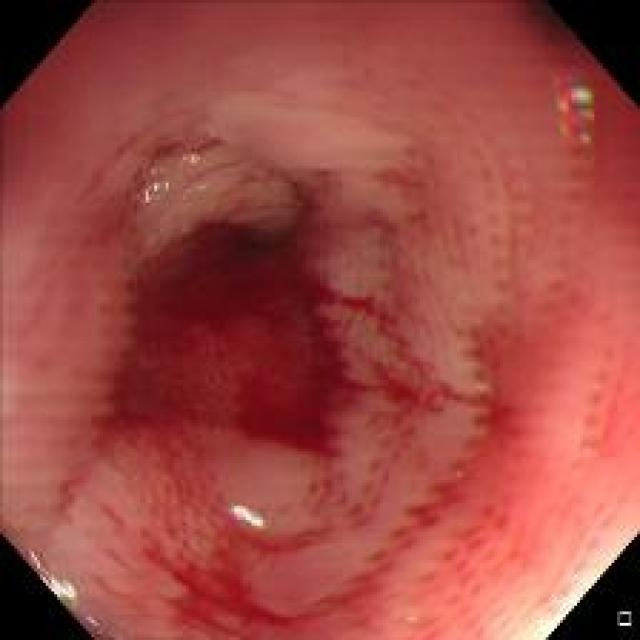blood: (95, 206, 366, 468), (144, 516, 335, 636), (374, 359, 425, 411), (366, 294, 398, 342), (286, 178, 320, 206)
color misalignment: (555, 71, 594, 148), (136, 164, 175, 200), (25, 545, 52, 574), (184, 176, 208, 194), (176, 148, 199, 165), (81, 612, 102, 629)
saturation: (492, 495, 636, 638)
specularity: (39, 574, 82, 601), (230, 502, 260, 525)
